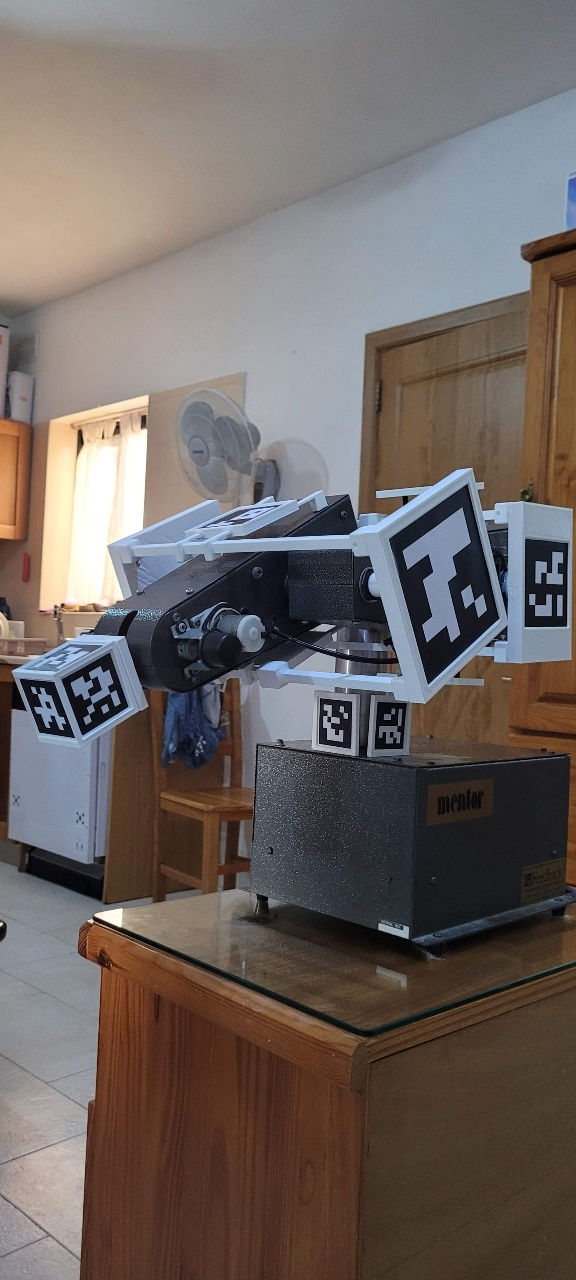Robot: (11, 466, 574, 759)
